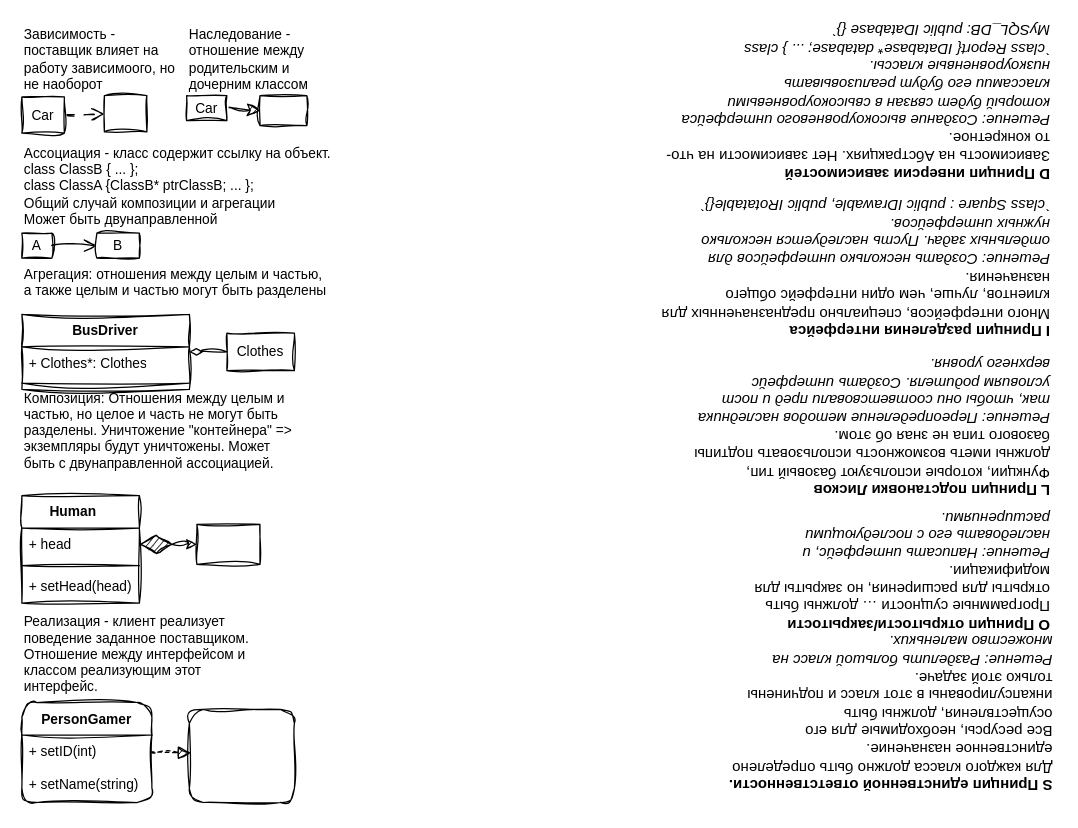
The diagram is 1078 pixels wide and 828 high, and some of its shapes have lost their labels. Each missing label, with the centre of its shape:
<<Interface>> Gamer + name: String + id: int: [241,755]
Head: [228,543]
Oil: [125,113]
Taxi: [283,110]
